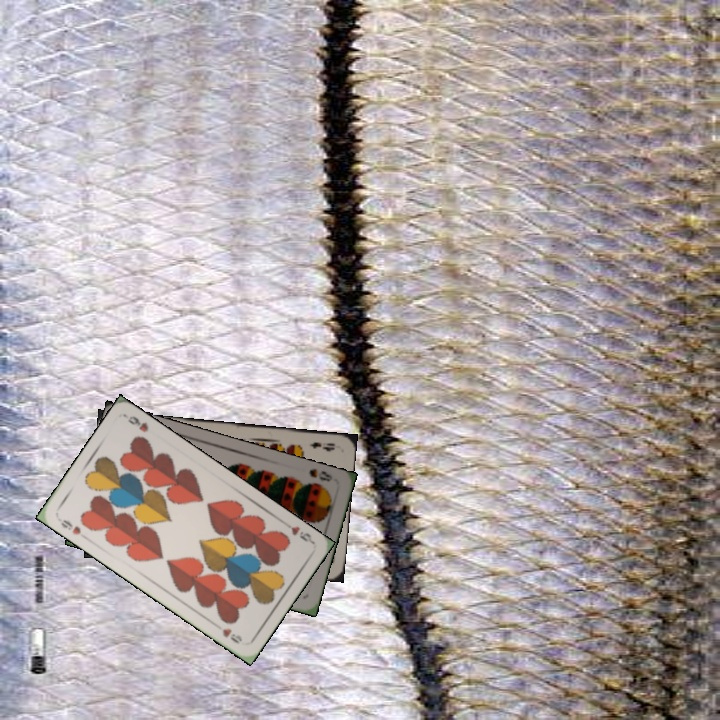E9: (306, 438, 338, 454)
H9: (279, 518, 315, 545), (57, 515, 83, 537)
S8: (305, 465, 335, 484)
